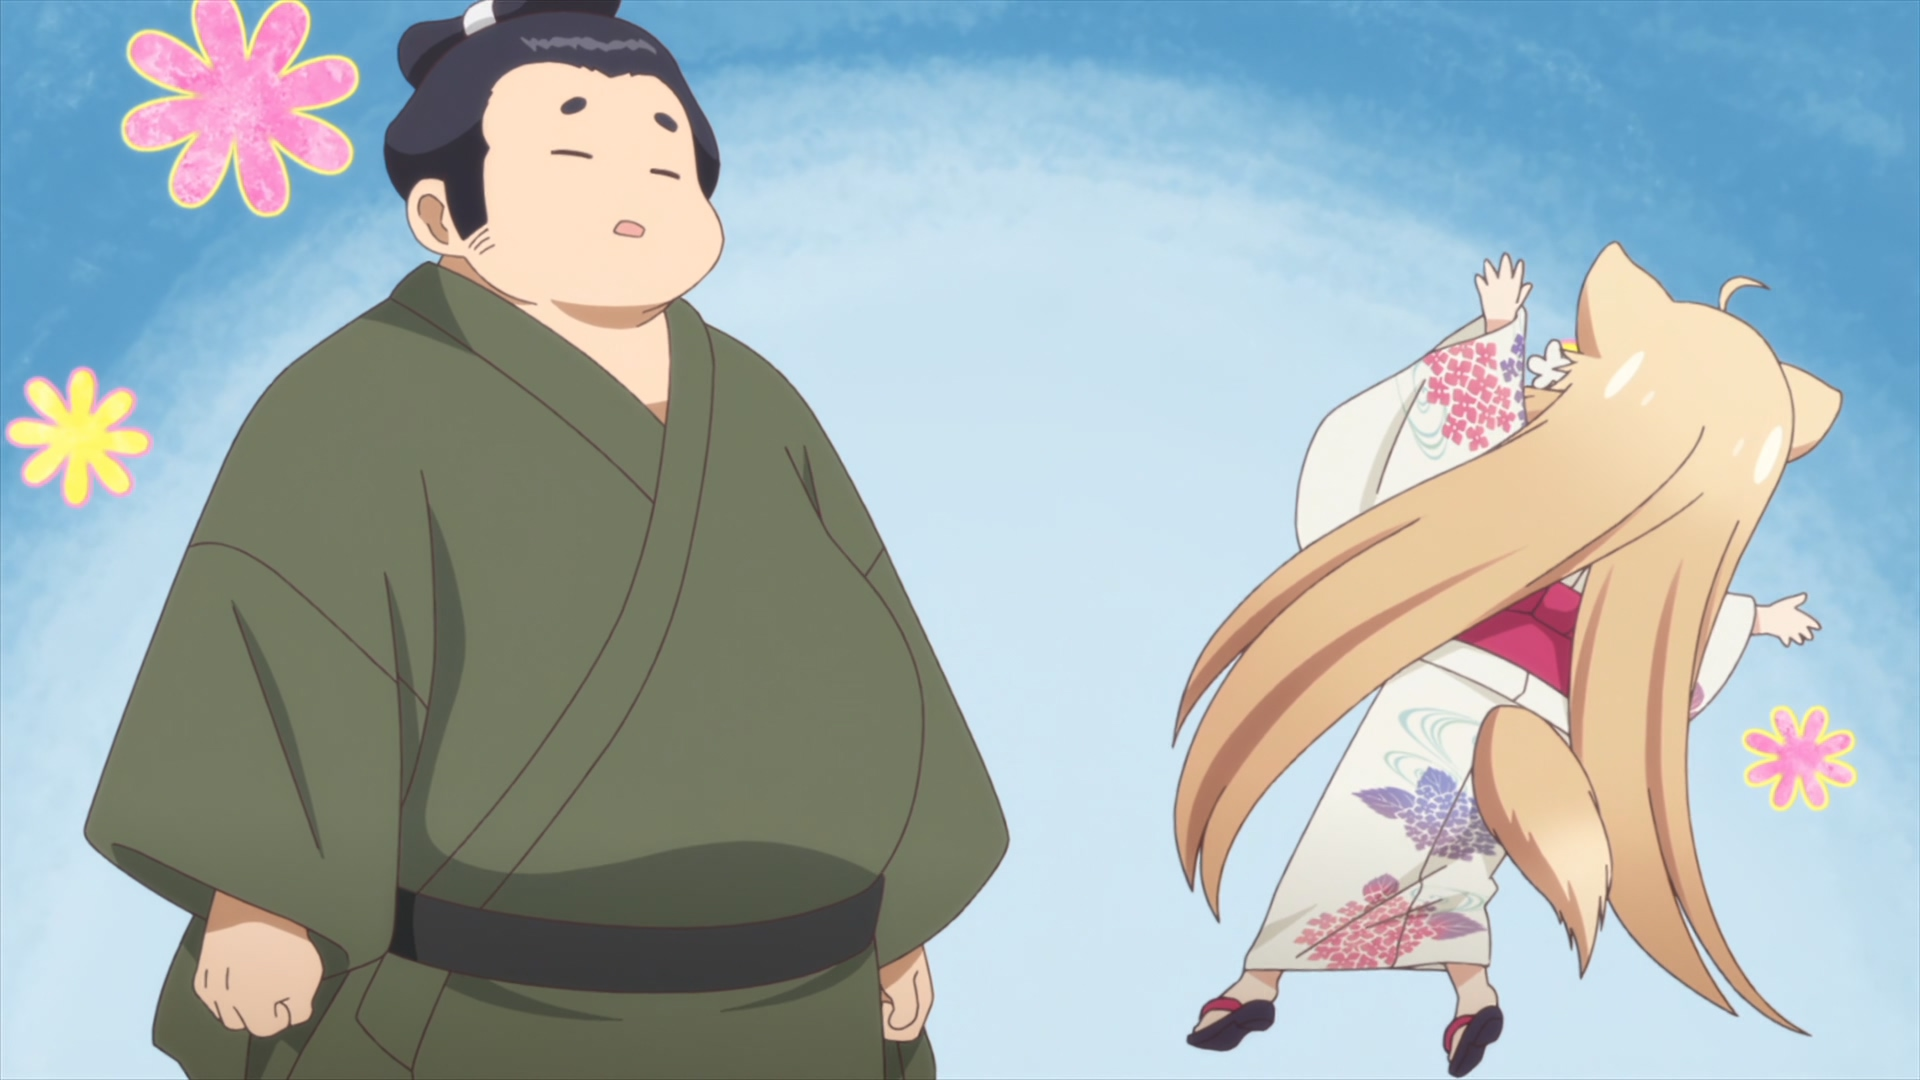其他: (84, 1, 1009, 1080)
柚: (1174, 239, 1844, 1080)
